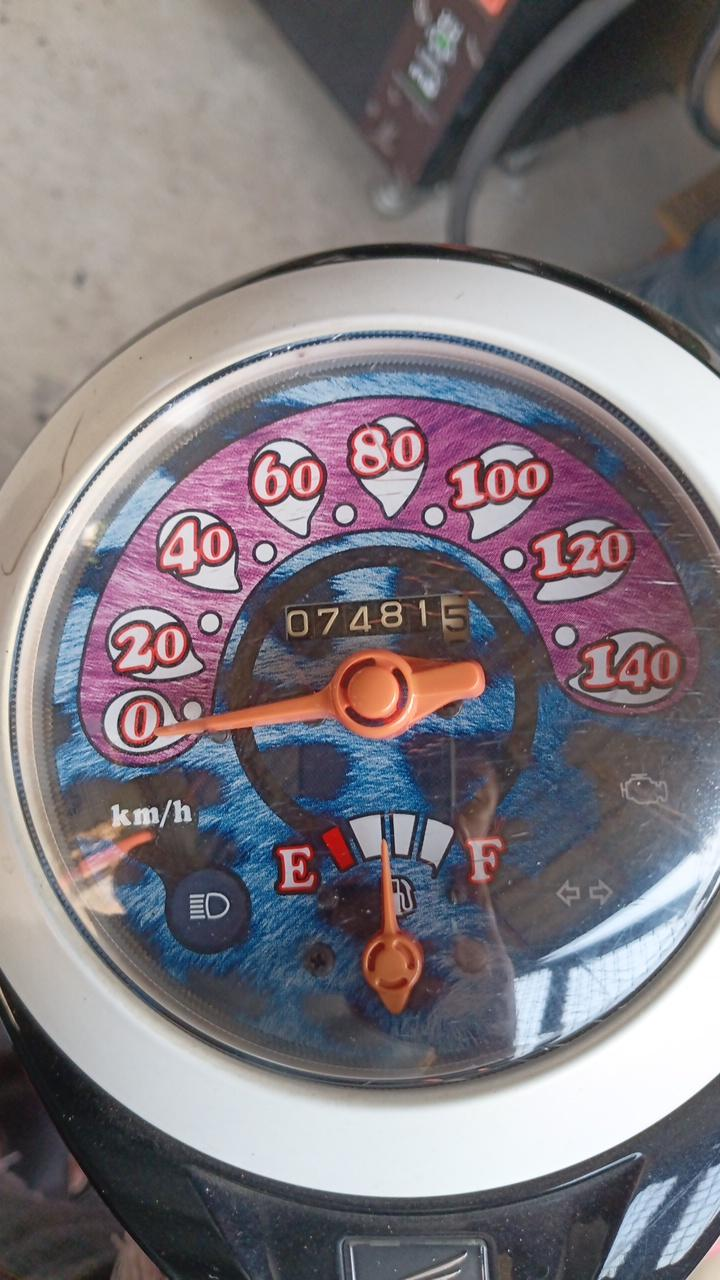0: (287, 609, 309, 638)
1: (416, 599, 428, 629)
4: (348, 604, 373, 634)
5: (443, 602, 469, 634)
7: (317, 607, 339, 637)
8: (380, 601, 403, 629)
odometer: (280, 590, 474, 651)
